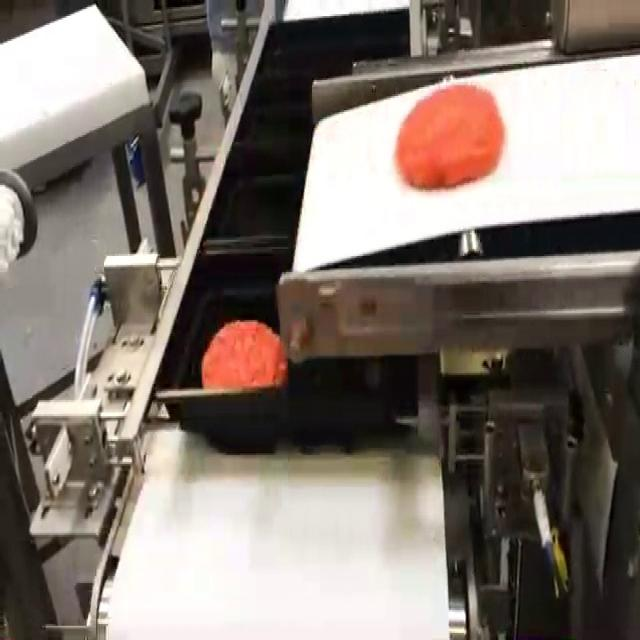hamburguer: (396, 85, 504, 187)
